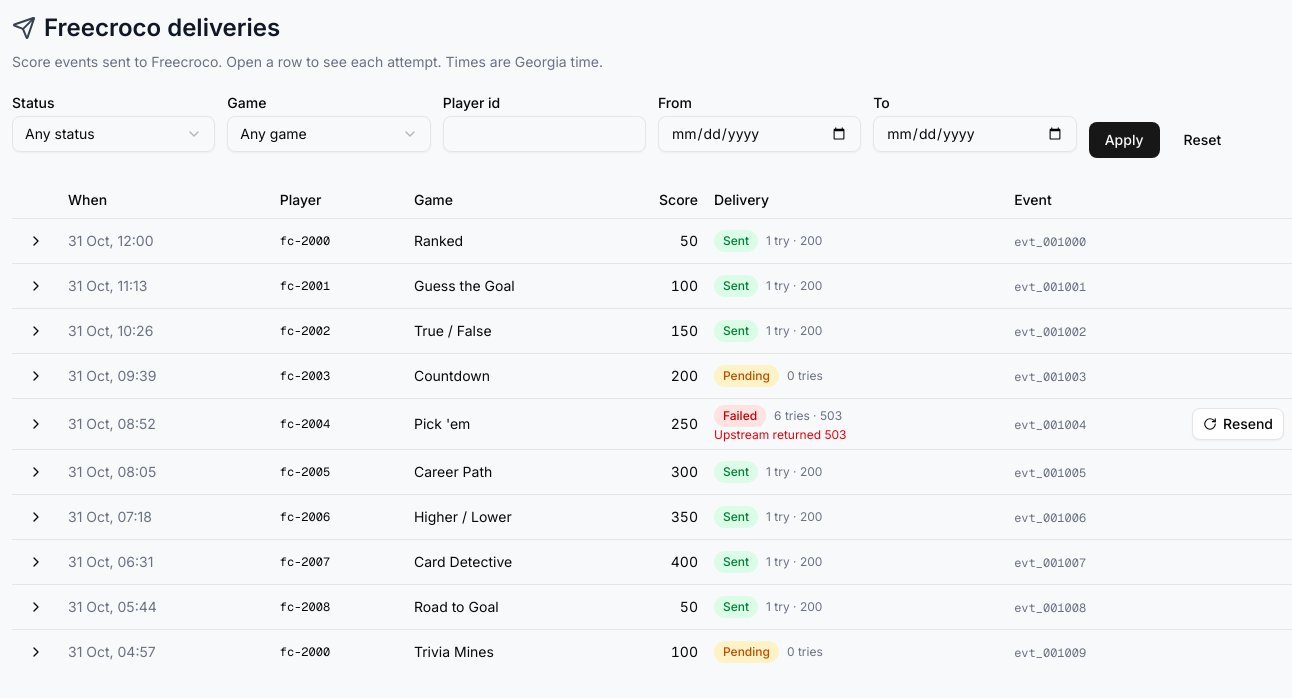
Test: expands a row to its attempt history
Click the button named "attempts for evt_". click: (36, 240)
box: [20,224,52,256]
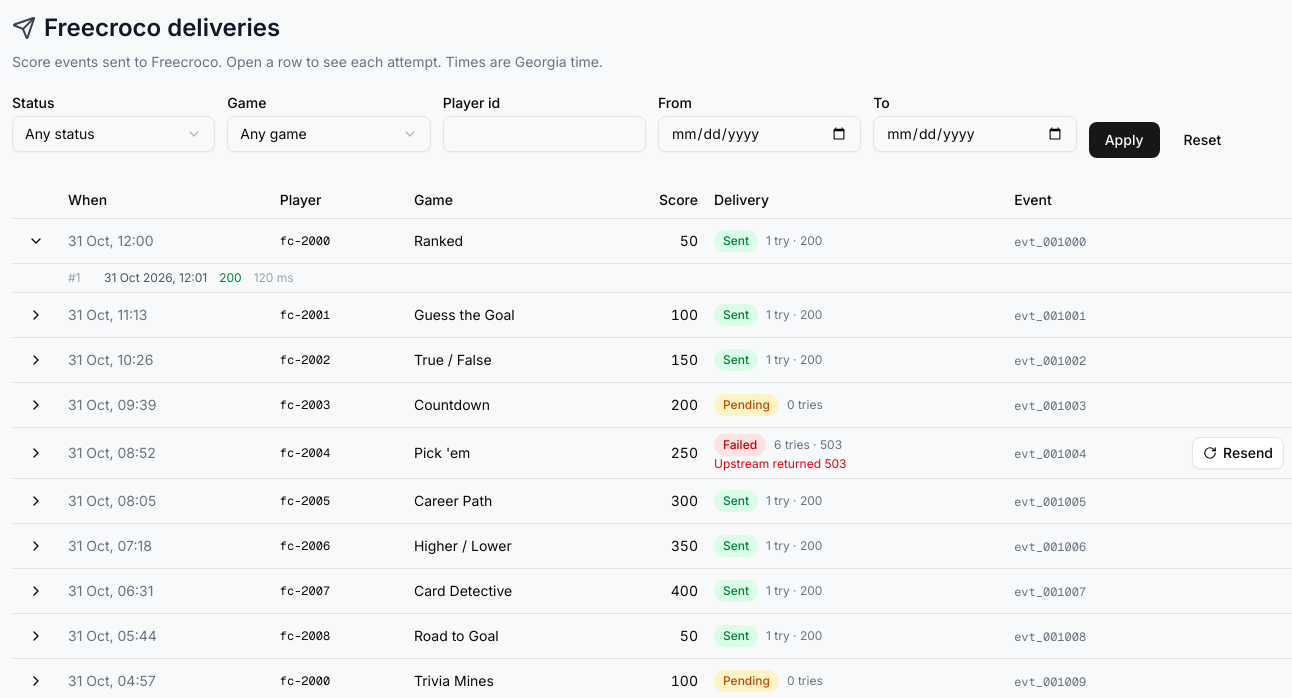
Expected: the text "#1" is shown, [68,270,80,284]
